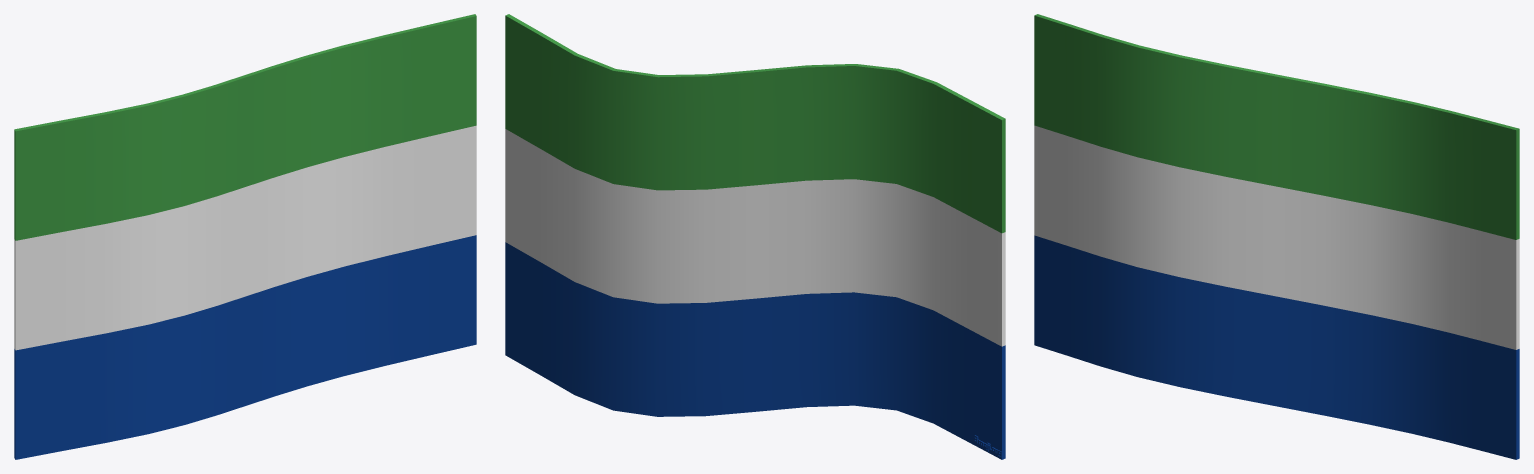
File: flag_sierra_leone.glb
3 views of the same model, side by side, from view 1: azimuth 30°, elevation 25°; view 2: azimuth 150°, elevation 25°; view 3: azimuth 330°, elevation 25° (orthographic). The views are drawn at different scales.
Visible parts, largest first — view 1: flag_sierra_leone; view 2: flag_sierra_leone; view 3: flag_sierra_leone.
Part boxes in pixels (x1=…): flag_sierra_leone: x1=14, y1=14, x2=476, y2=459; flag_sierra_leone: x1=505, y1=14, x2=1005, y2=459; flag_sierra_leone: x1=1034, y1=14, x2=1519, y2=459.
Size of the model in its own units: 2.18 by 1.58 by 0.3373.
Materials: 2 (2 with a texture image).
